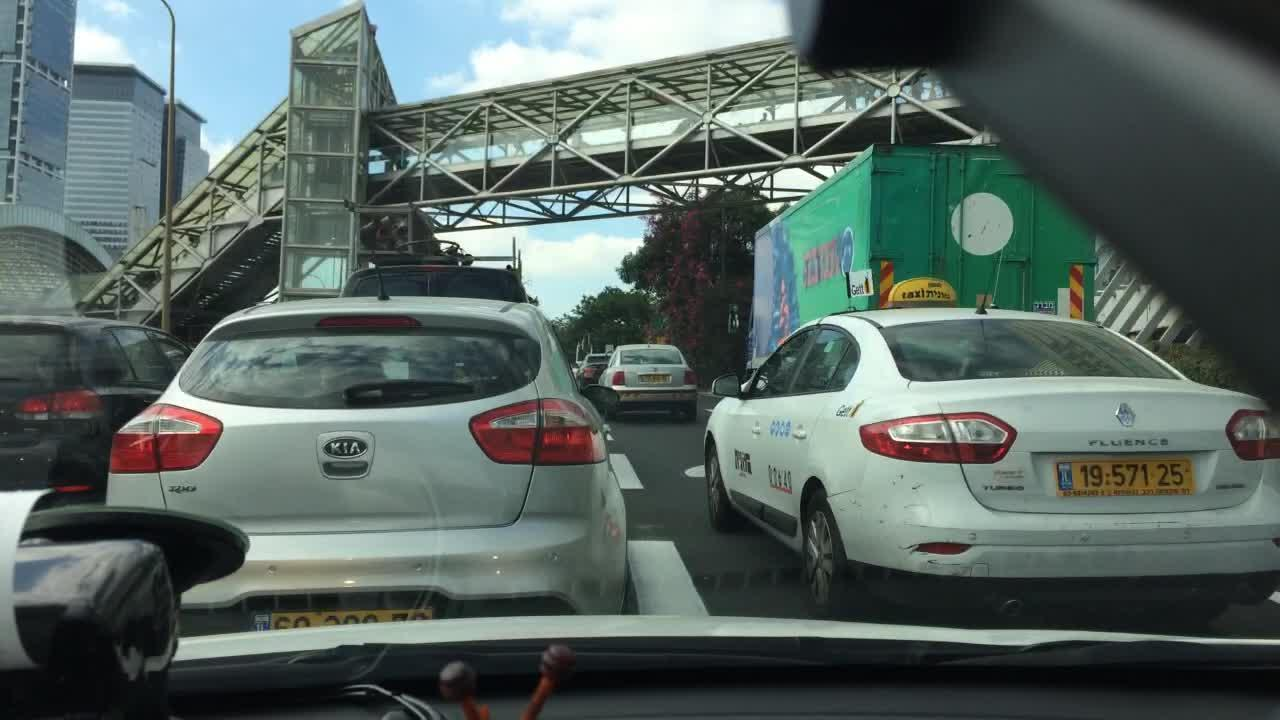Renault: (1109, 399, 1140, 431)
kia: (318, 428, 382, 466)
